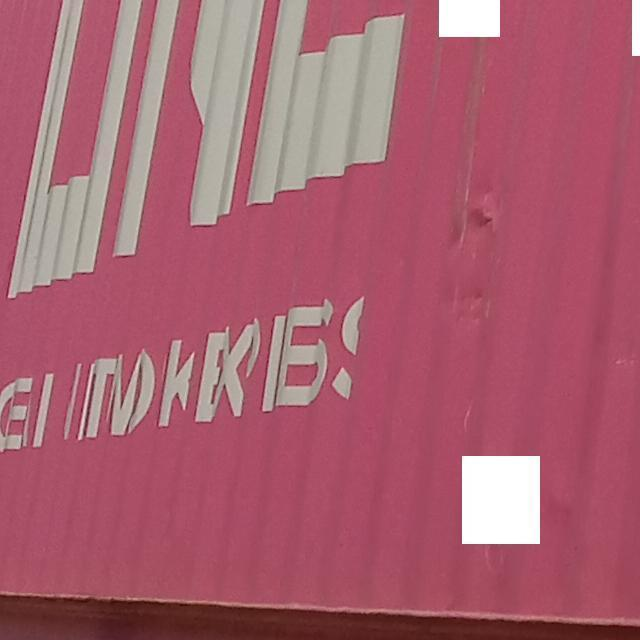dent: (426, 175, 516, 326)
